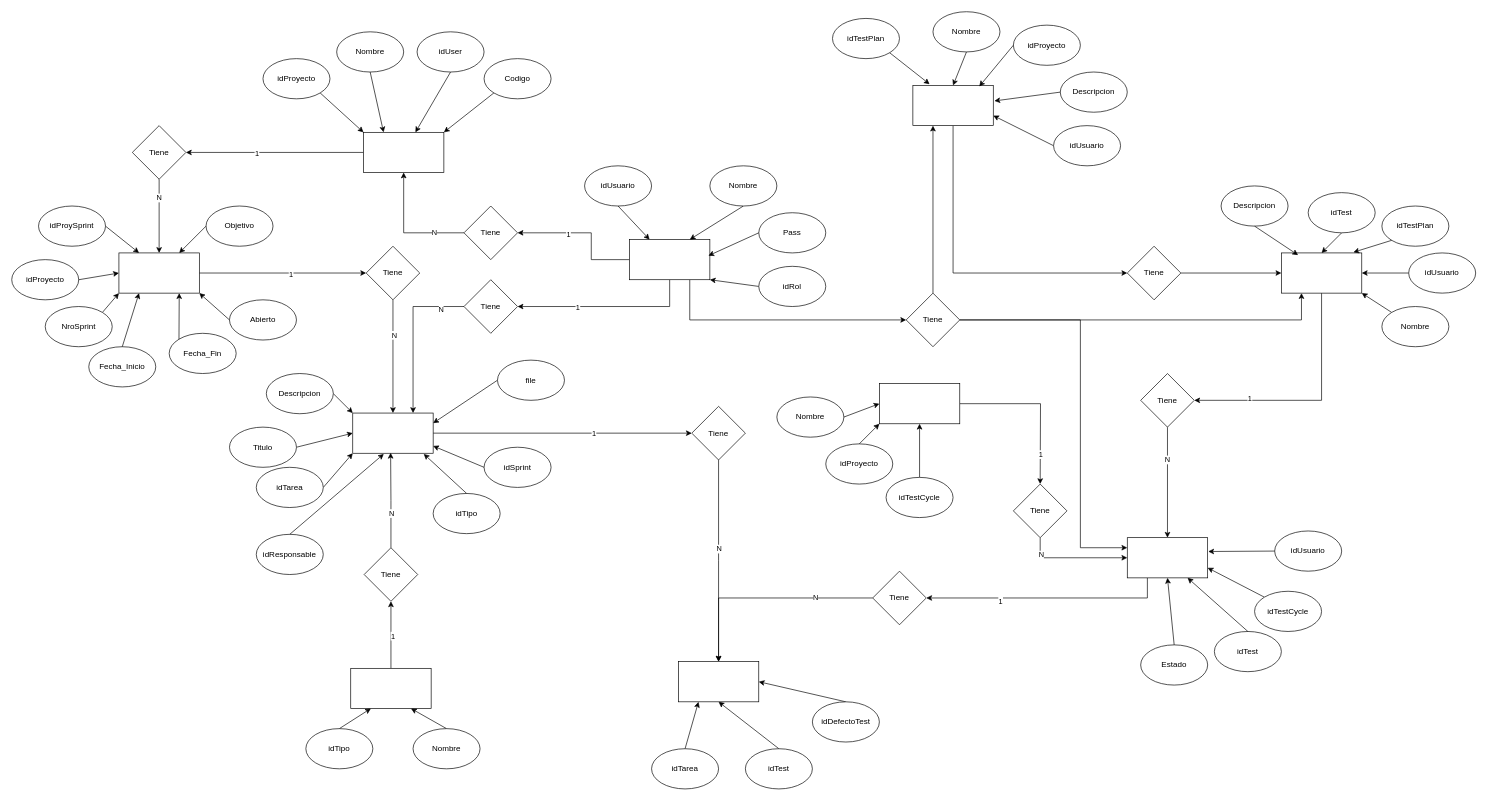
Image size: 1487x801. Some labels were removed from this diagram. The shapes that lost their labels are listed below. From the top down, each one's centre as x and y in pixels, then its label:
At (x=952, y=105): "Test_Plans".
At (x=403, y=152): "Proyecto".
At (x=158, y=272): "Proyecto_Sprint".
At (x=669, y=259): "Usuarios".
At (x=1321, y=272): "Tests".
At (x=919, y=403): "Test_Cycle".
At (x=392, y=432): "Tareas".
At (x=1167, y=557): "Test_Execution".
At (x=390, y=688): "Tipo_Tarea".
At (x=718, y=681): "Defectos_Test".
